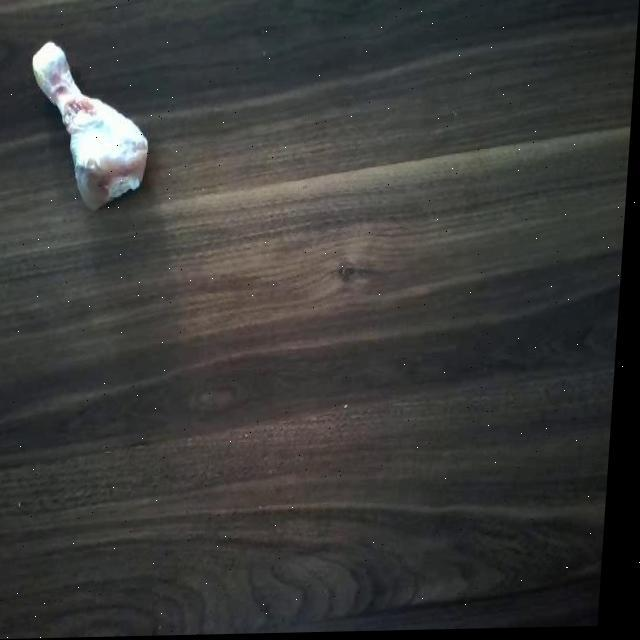leg: (18, 34, 159, 208)
